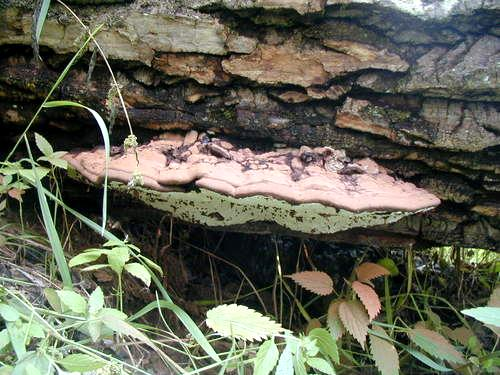Ganoderma - Fruit Body: (63, 139, 440, 232)
